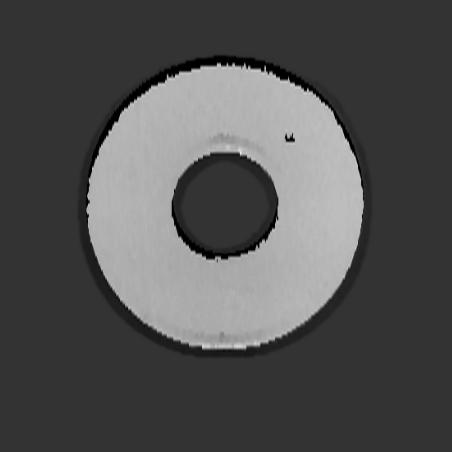defect: (283, 131, 295, 144)
